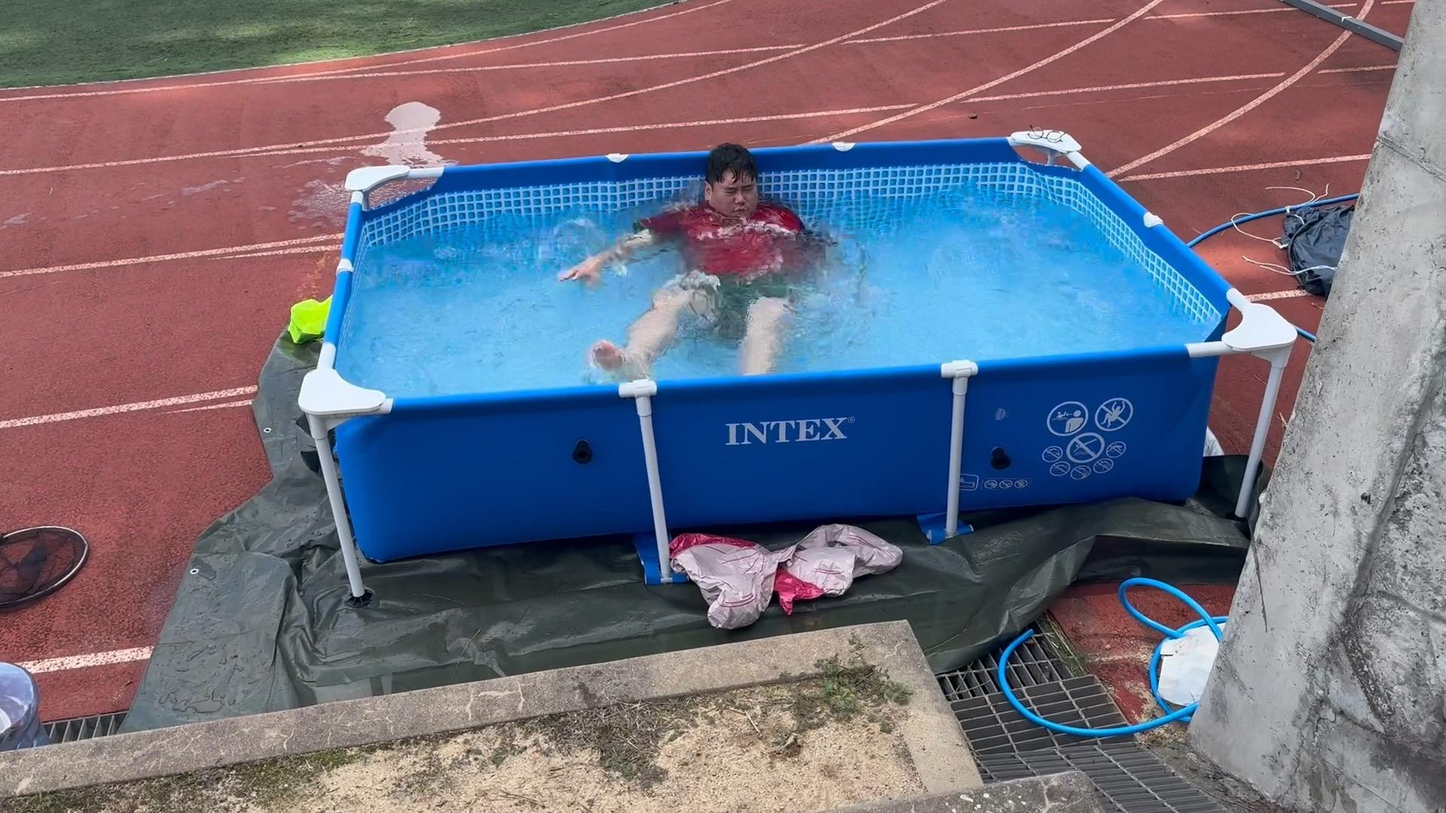Drowning: (558, 148, 873, 370)
